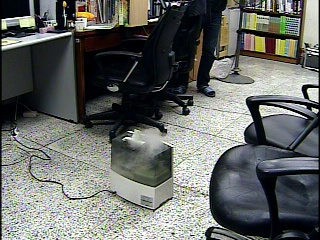smoke: (116, 122, 167, 171)
